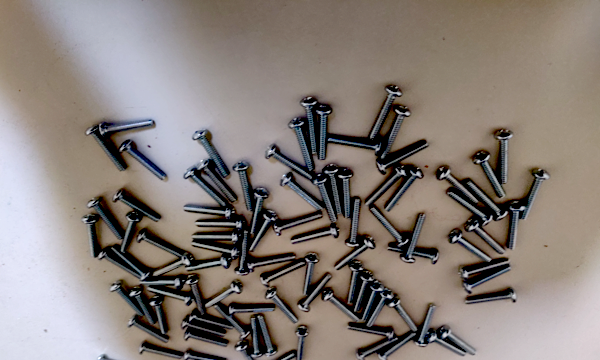longscrew: (121, 141, 169, 189), (385, 165, 426, 217), (464, 178, 513, 219), (435, 163, 484, 204), (377, 140, 431, 177), (363, 165, 405, 212), (136, 228, 187, 265), (381, 103, 411, 165), (195, 128, 232, 178), (282, 174, 328, 214), (367, 207, 414, 246), (370, 84, 401, 143), (522, 167, 555, 221), (87, 127, 126, 171), (89, 197, 127, 242), (264, 144, 314, 178), (114, 190, 162, 225), (185, 171, 231, 206), (472, 154, 511, 195), (199, 163, 240, 202), (445, 192, 496, 223), (326, 133, 384, 160), (288, 118, 318, 169), (100, 249, 141, 285), (384, 243, 438, 270), (334, 237, 375, 272), (466, 222, 511, 253), (447, 232, 492, 263), (110, 247, 149, 281), (205, 282, 246, 314), (461, 255, 511, 281), (248, 210, 278, 253), (495, 129, 518, 185), (110, 280, 143, 319), (321, 288, 361, 320), (310, 175, 336, 224), (385, 296, 419, 333), (299, 274, 332, 312), (265, 292, 303, 325), (465, 268, 511, 295), (131, 320, 171, 351), (403, 210, 425, 266), (146, 287, 194, 312), (216, 305, 250, 340), (414, 300, 437, 351), (316, 102, 335, 163), (302, 96, 321, 157), (97, 120, 158, 139), (273, 214, 323, 237), (438, 326, 477, 355), (427, 329, 466, 358), (345, 324, 396, 346), (236, 160, 257, 212), (263, 262, 305, 287), (182, 203, 234, 223), (181, 320, 226, 343), (343, 262, 367, 305), (189, 242, 238, 263), (379, 333, 417, 360), (131, 288, 158, 326), (120, 212, 142, 258), (151, 254, 193, 278), (289, 226, 339, 246), (361, 283, 388, 320), (186, 330, 229, 353), (365, 291, 392, 327), (352, 273, 379, 309), (224, 302, 275, 321), (357, 337, 399, 360), (251, 186, 269, 239), (506, 199, 525, 249), (188, 314, 235, 334), (326, 167, 343, 222), (187, 275, 207, 320), (242, 255, 300, 270), (292, 324, 316, 360), (303, 251, 321, 298), (463, 291, 516, 306), (82, 215, 100, 259), (259, 317, 279, 356), (236, 230, 252, 277), (140, 343, 184, 360), (149, 297, 169, 334), (191, 220, 244, 233), (136, 279, 183, 293), (341, 168, 353, 219), (192, 232, 239, 245), (249, 317, 264, 357), (349, 197, 360, 248), (186, 261, 231, 272), (235, 344, 263, 360), (182, 351, 230, 360), (253, 353, 296, 360), (94, 355, 141, 360)
